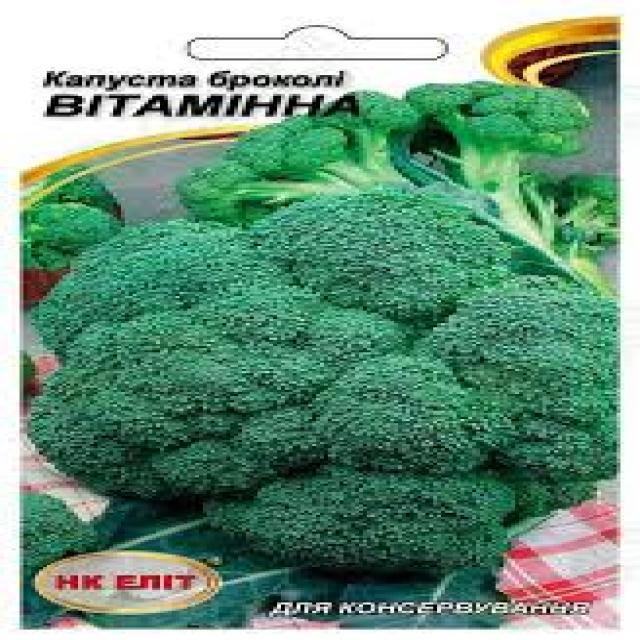broccoli: (49, 178, 578, 562), (226, 76, 623, 231)
